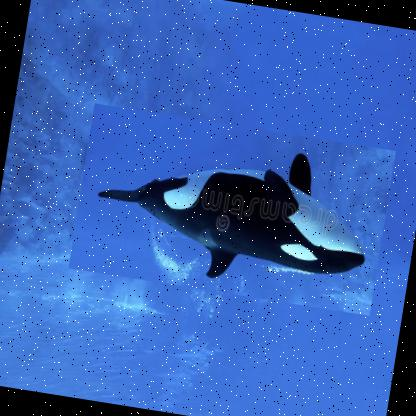killer_whale: (68, 102, 396, 316)
